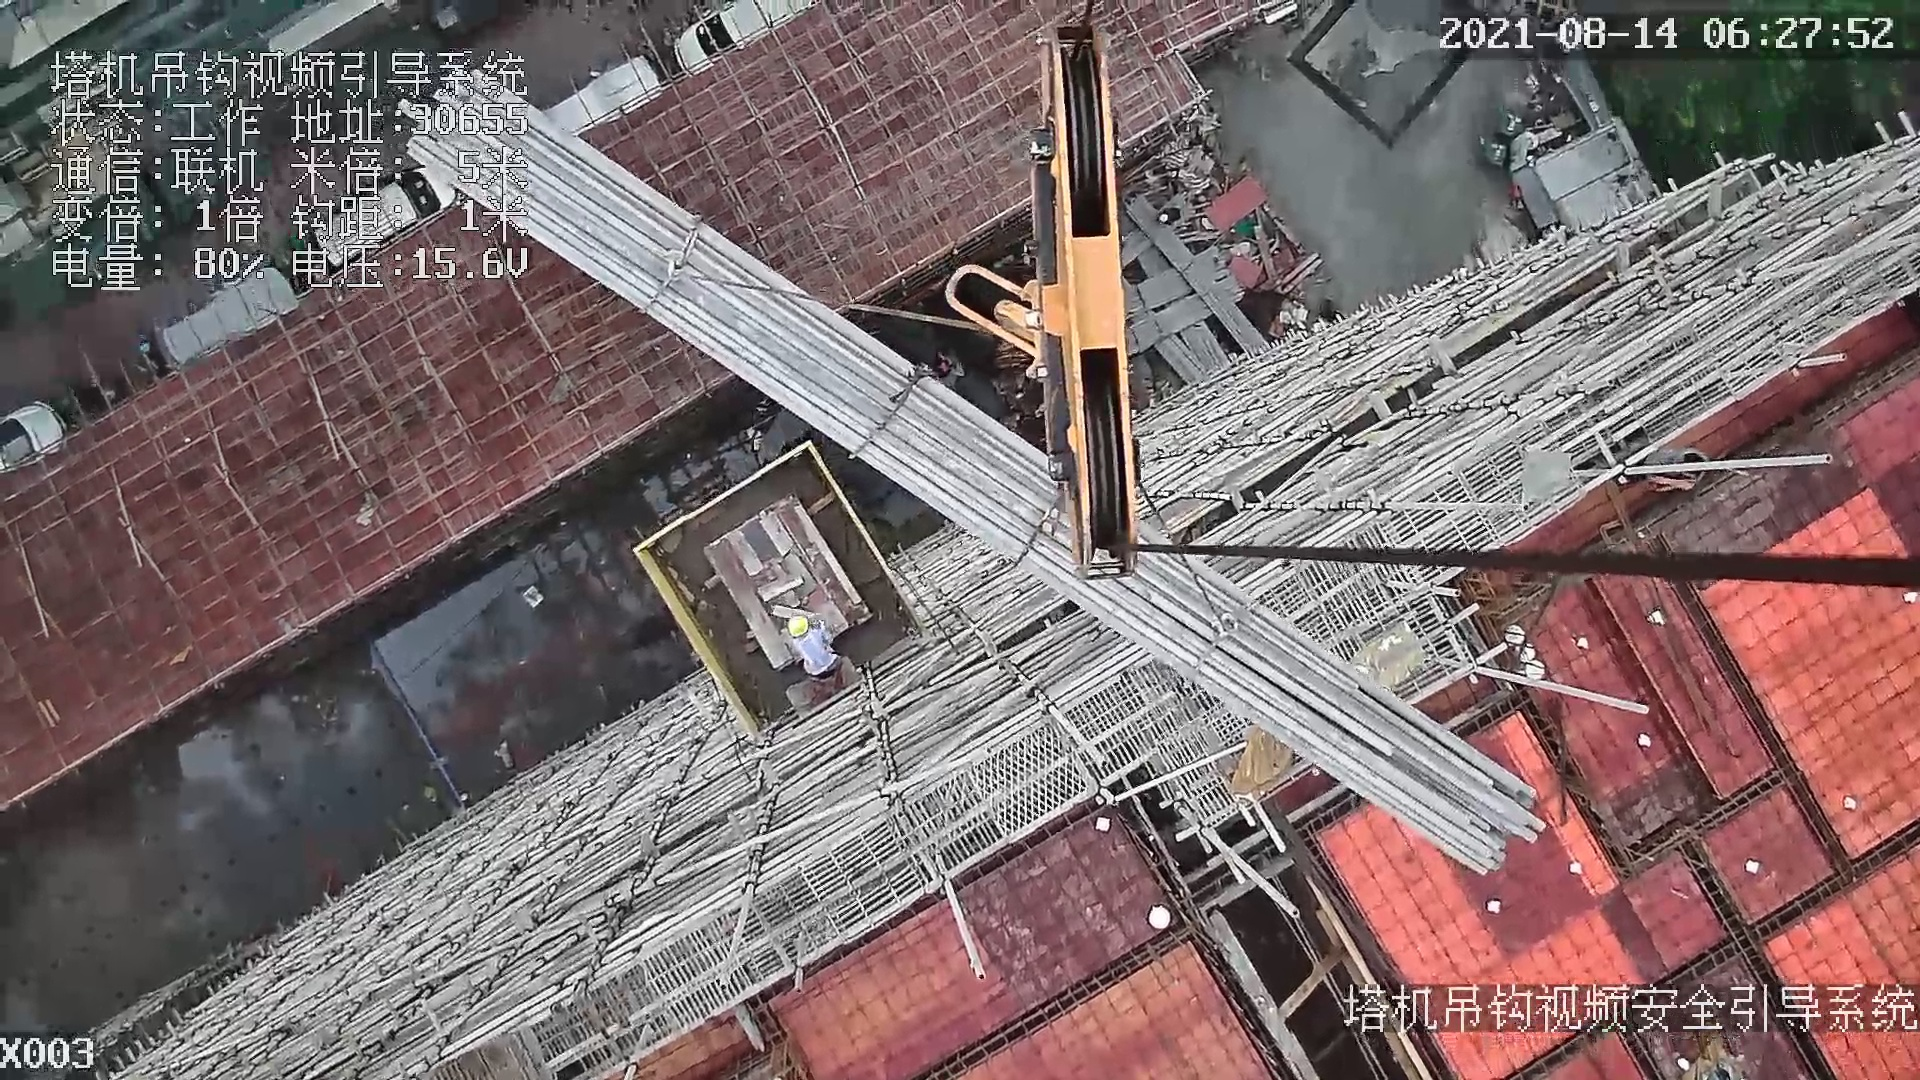helmet: (777, 610, 814, 636)
hook: (1030, 18, 1144, 583)
person: (786, 612, 860, 690)
